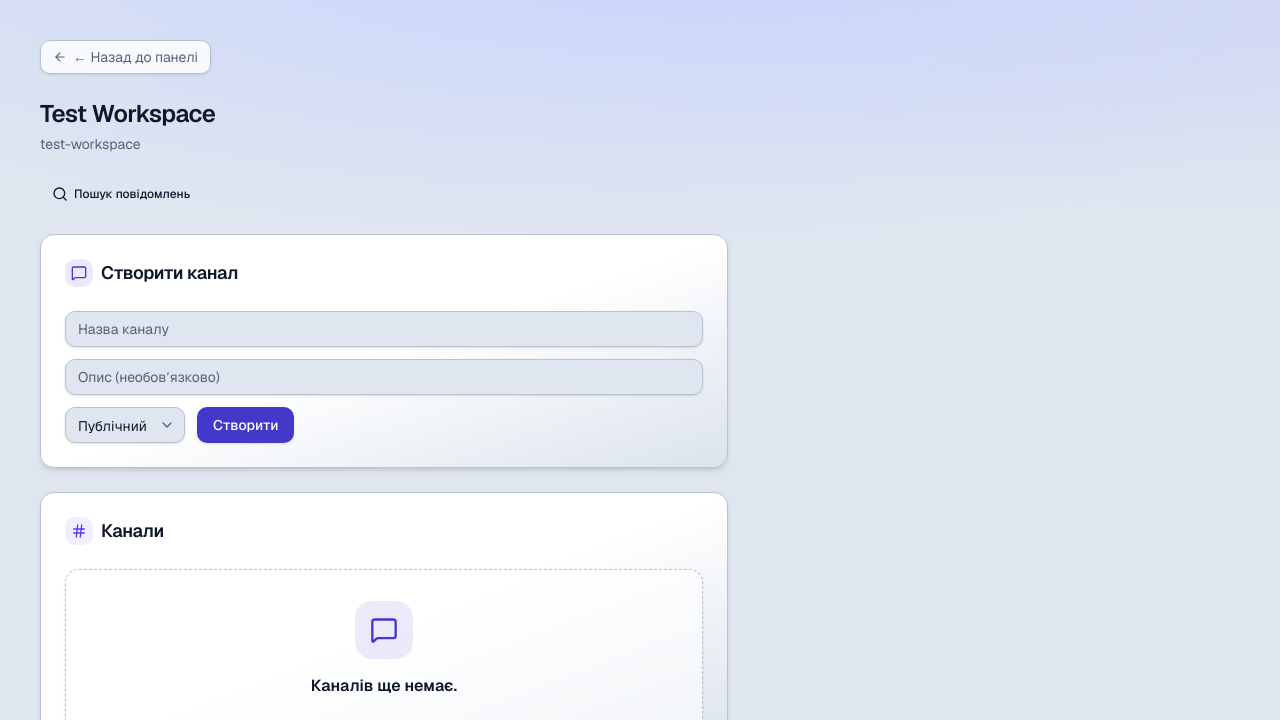
Test: WorkspaceDetailPage — locale › shows Ukrainian validation error for empty channel name
Click the button "Створити" at (246, 425), box [197,407,294,443]
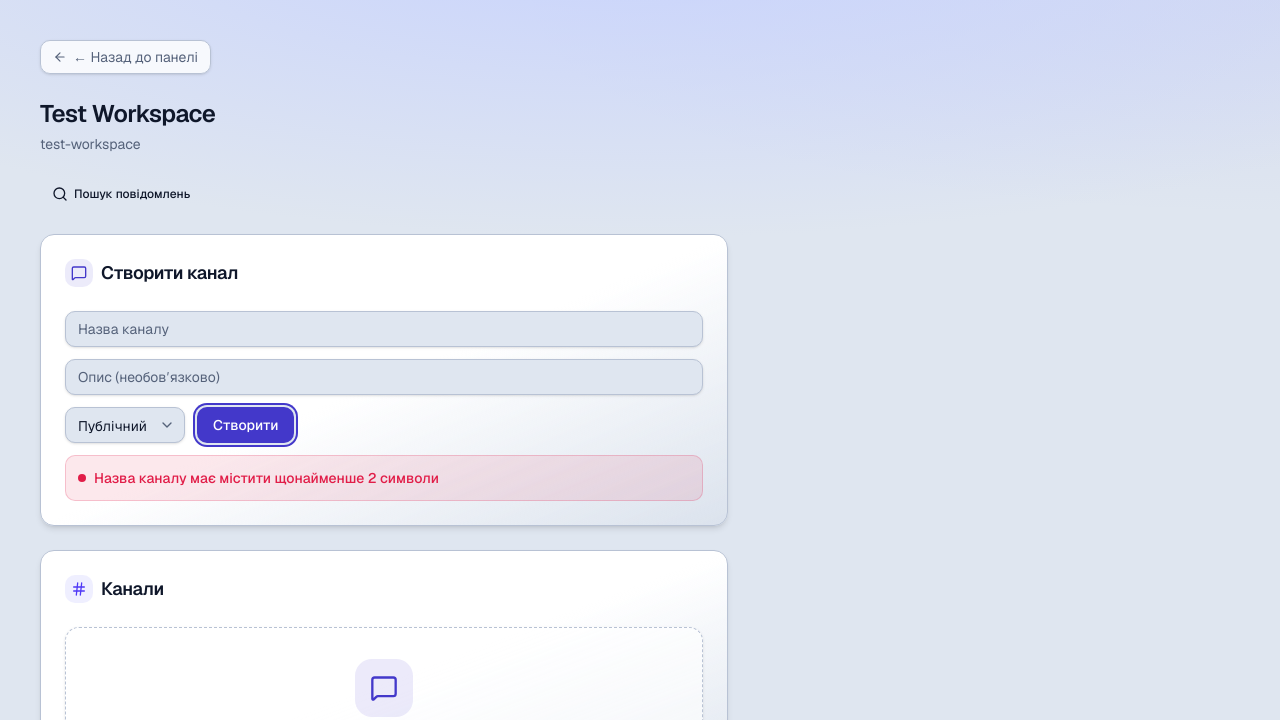
expect the text "Назва каналу має містити щонайменше 2 символи" is shown: met, box [78,469,439,487]
